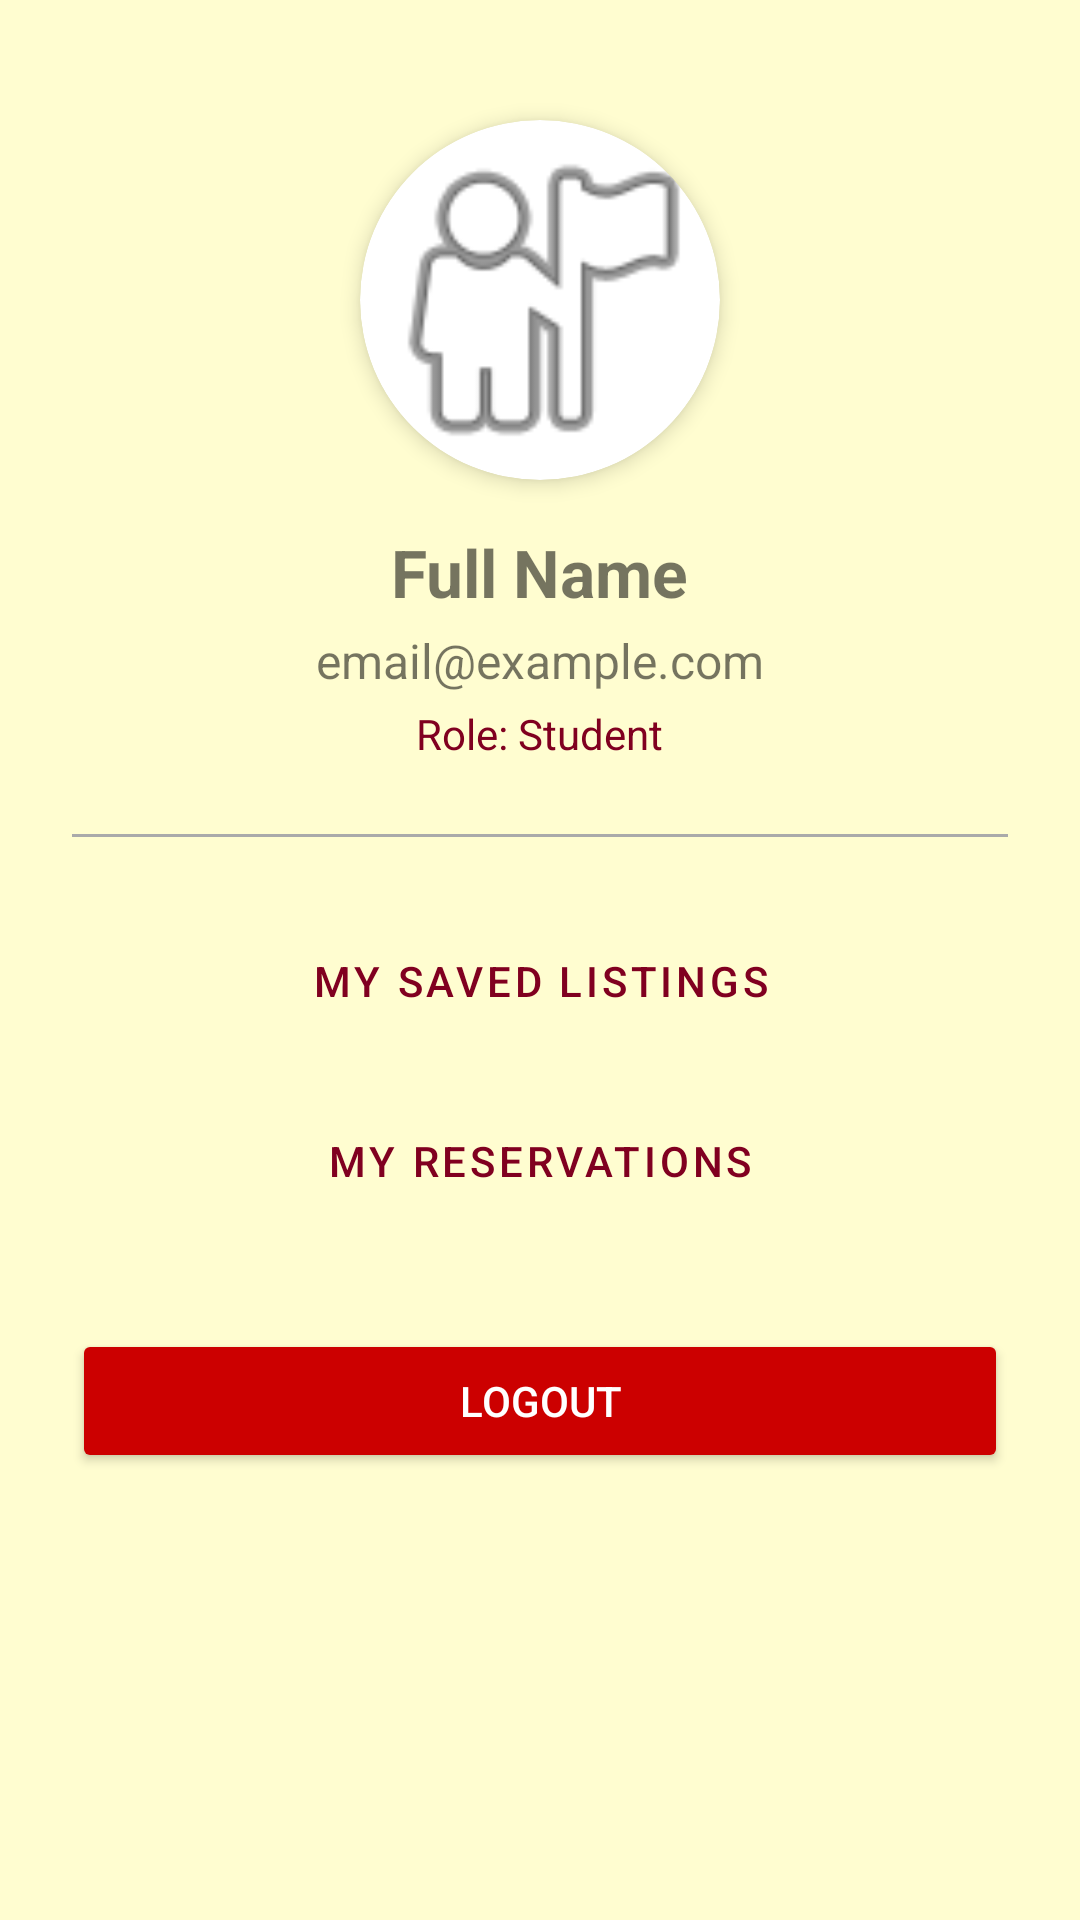

Screen size 1080px x 1920px. Icon name, then its box in pixels as bbox(x1, y1, x2, y2):
Profile Picture: bbox(360, 120, 720, 480)
